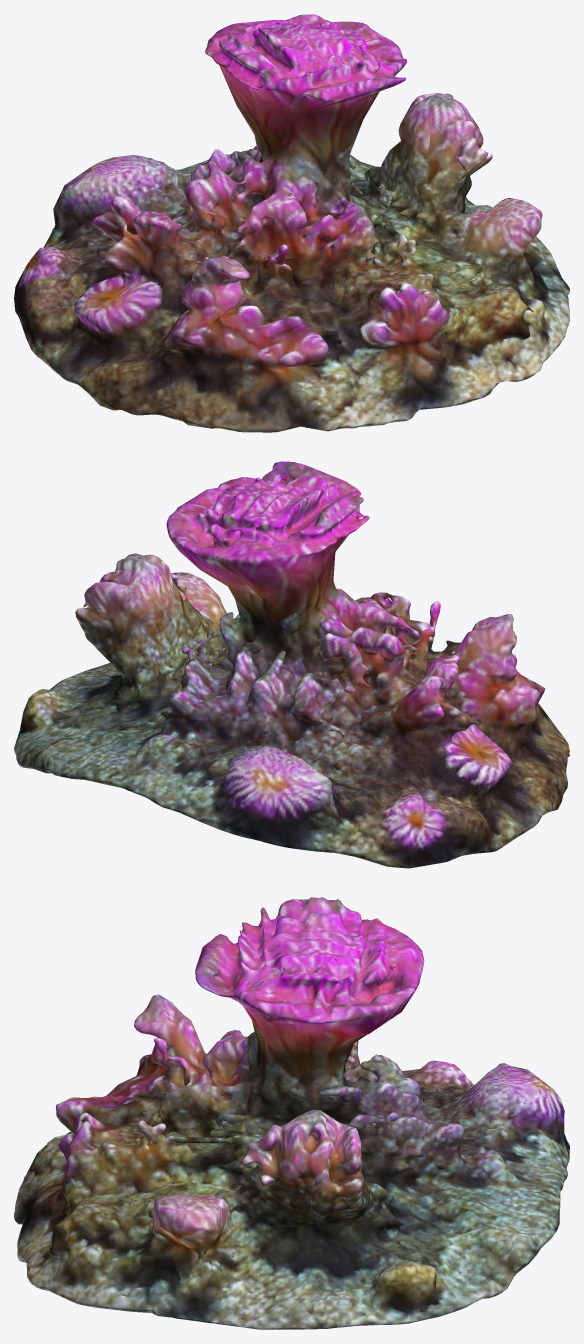
The model's file is pink_sea_anemone_l.glb.
The picture shows the model from 3 angles, top to bottom: view 1: azimuth 30°, elevation 25°; view 2: azimuth 150°, elevation 25°; view 3: azimuth 270°, elevation 25°; orthographic projection. The views are drawn at different scales.
Visible parts, largest first — view 1: Object_4; view 2: Object_4; view 3: Object_4.
Boxes of the visible parts, <box> form: Object_4: <box>14,14,569,432</box>; Object_4: <box>14,461,569,868</box>; Object_4: <box>14,897,569,1329</box>.
Bounding box in the file's own units: 1.75 × 1.02 × 1.64.
Materials: 1 (1 with a texture image).
